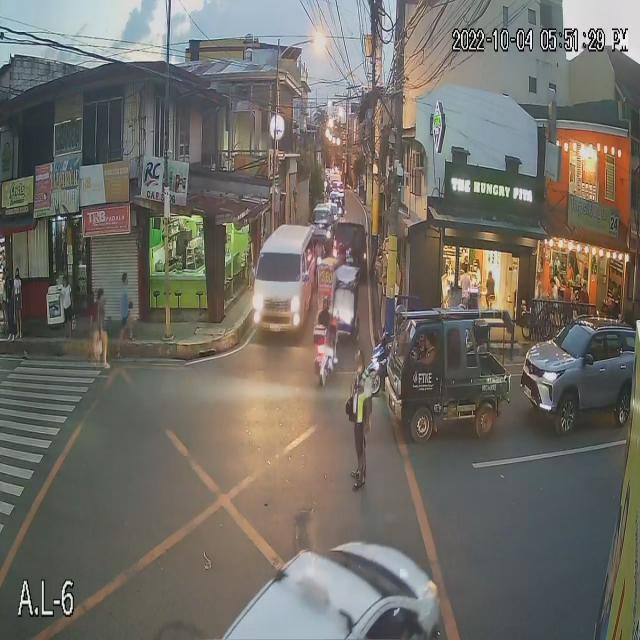helmet: (393, 303, 411, 324), (319, 292, 335, 314)
motorcycle: (362, 351, 423, 398)
rider: (392, 325, 413, 368), (316, 312, 336, 353)
